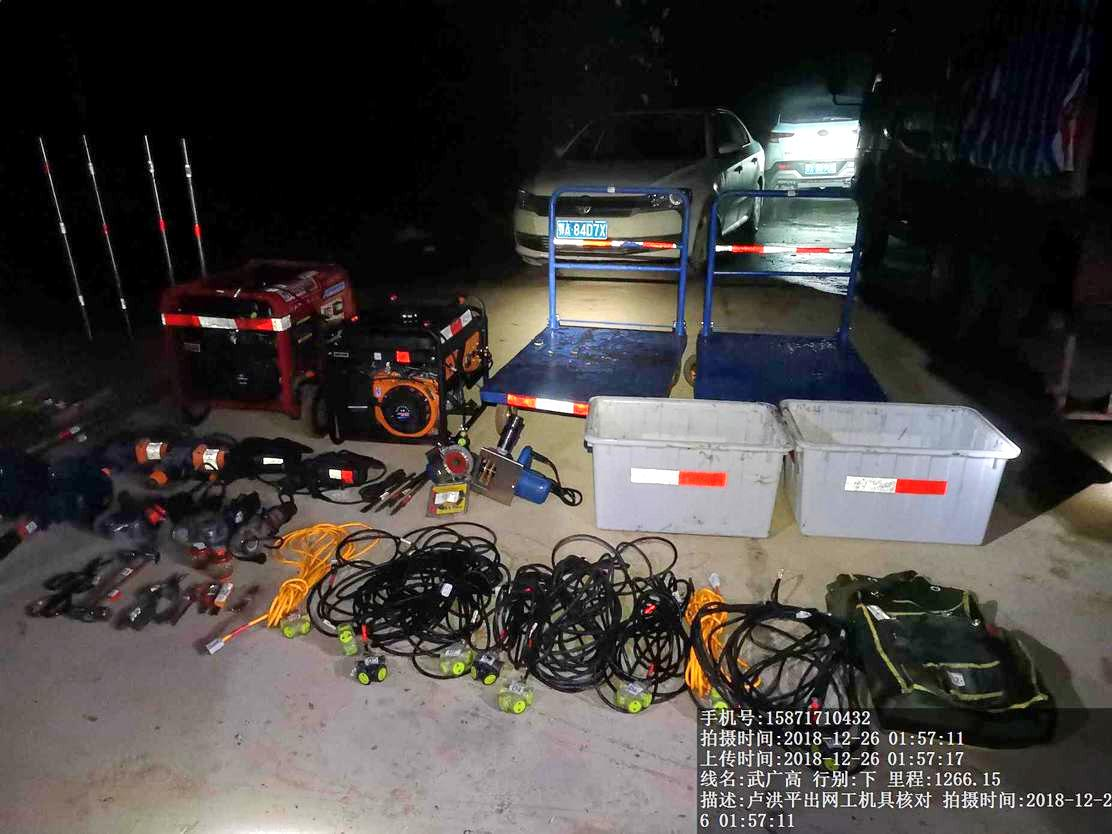DJ: (158, 251, 358, 416), (299, 285, 486, 443)
DX: (208, 520, 371, 653), (604, 544, 685, 726), (685, 567, 747, 719)
DZ: (276, 451, 385, 493), (124, 425, 196, 483), (185, 427, 246, 486)
GJB: (852, 602, 1065, 739), (826, 562, 1004, 623)
T: (781, 397, 1022, 547), (584, 394, 793, 542)
TC: (490, 184, 694, 434), (701, 177, 903, 402)
